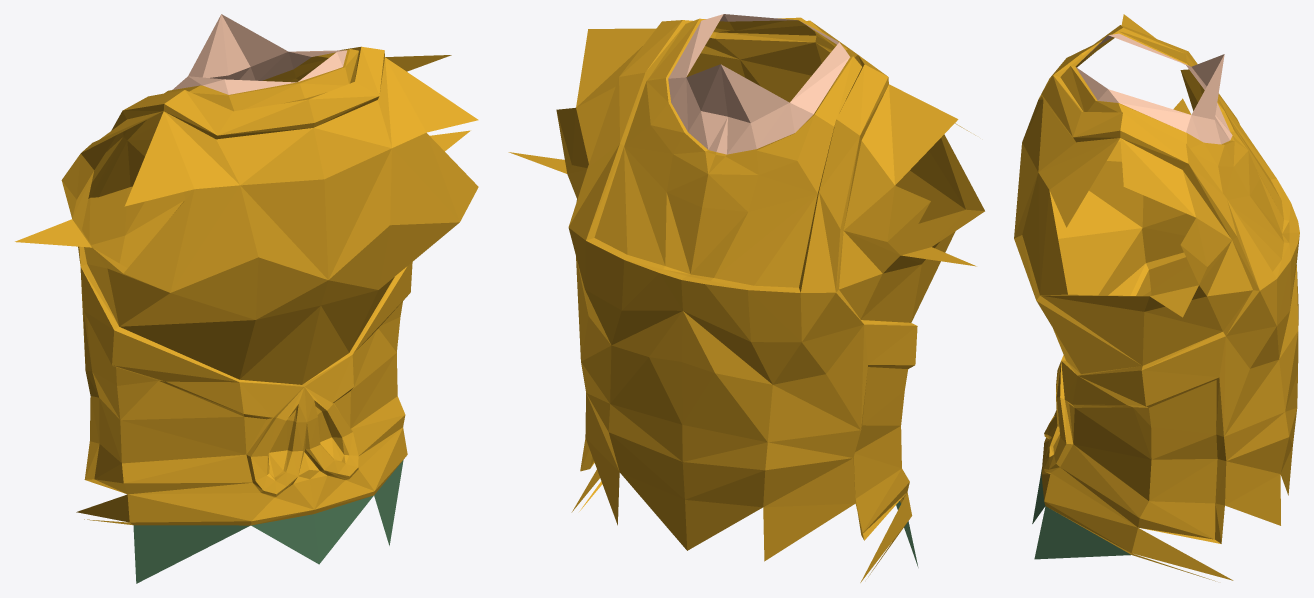
The model's file is League_ShopKeeper_01_Torso.obj.
3 views of the same model, side by side, from view 1: azimuth 30°, elevation 25°; view 2: azimuth 150°, elevation 25°; view 3: azimuth 270°, elevation 25° (orthographic). The views are drawn at different scales.
Size of the model in its own units: 0.5658 by 0.5874 by 0.3117.
1 material, 1 textured.
